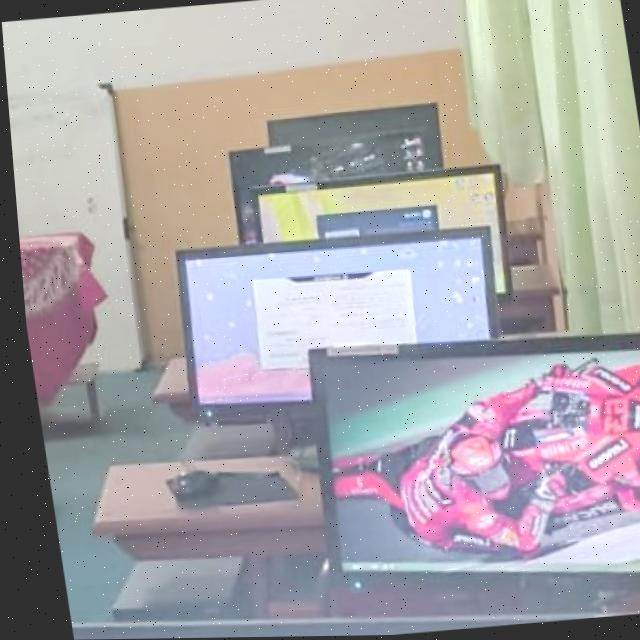onscreen: (307, 341, 640, 584), (172, 231, 491, 419), (248, 169, 502, 291), (233, 130, 422, 239), (270, 107, 441, 167)
